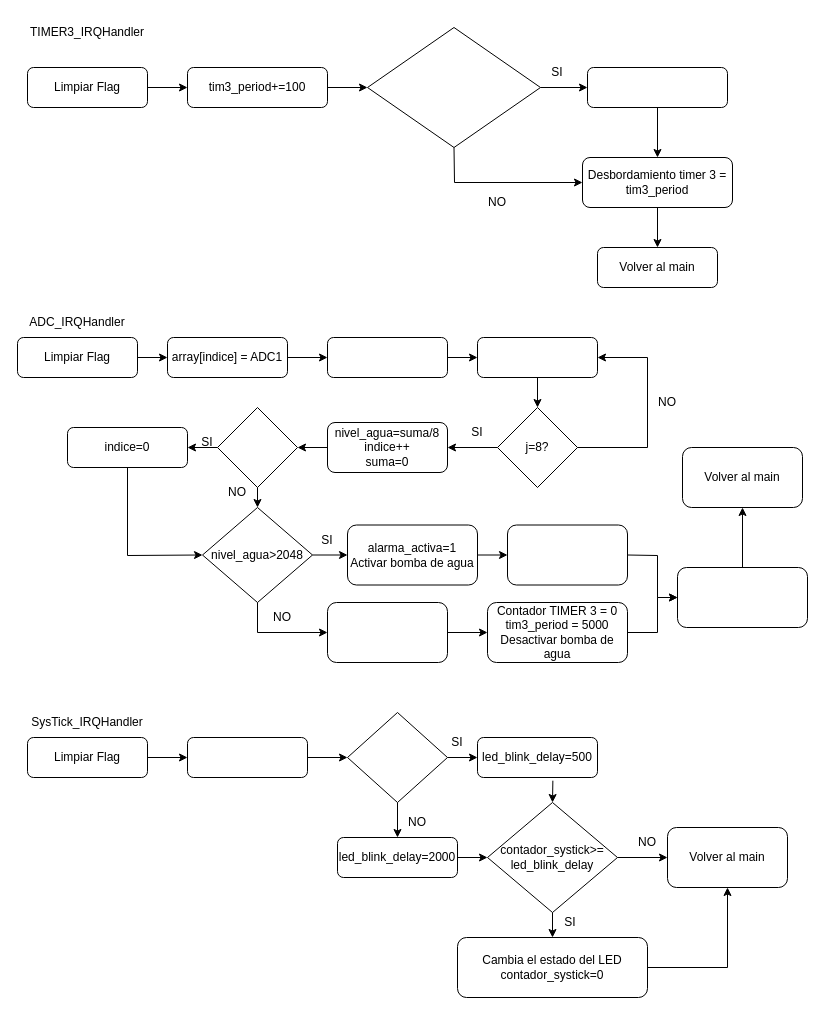
This 825x1015 diagram has some shape labels left out. Each missing label, with the centre of its shape:
alarma_activa=0 Deshabilito contador del TIMER 3: the point at 387,632
alarma_activa=1: the point at 397,757
contador_systick++: the point at 247,757
Enviar nivel_agua al UART usando DMA: the point at 742,597
Habilitar contador del TIMER 3: the point at 567,554
indice>=8: the point at 257,447
j=0: the point at 387,357
suma+=array[j] j++: the point at 537,357
tim3_period=10000: the point at 657,87
tim3_period>=10000: the point at 453,87
